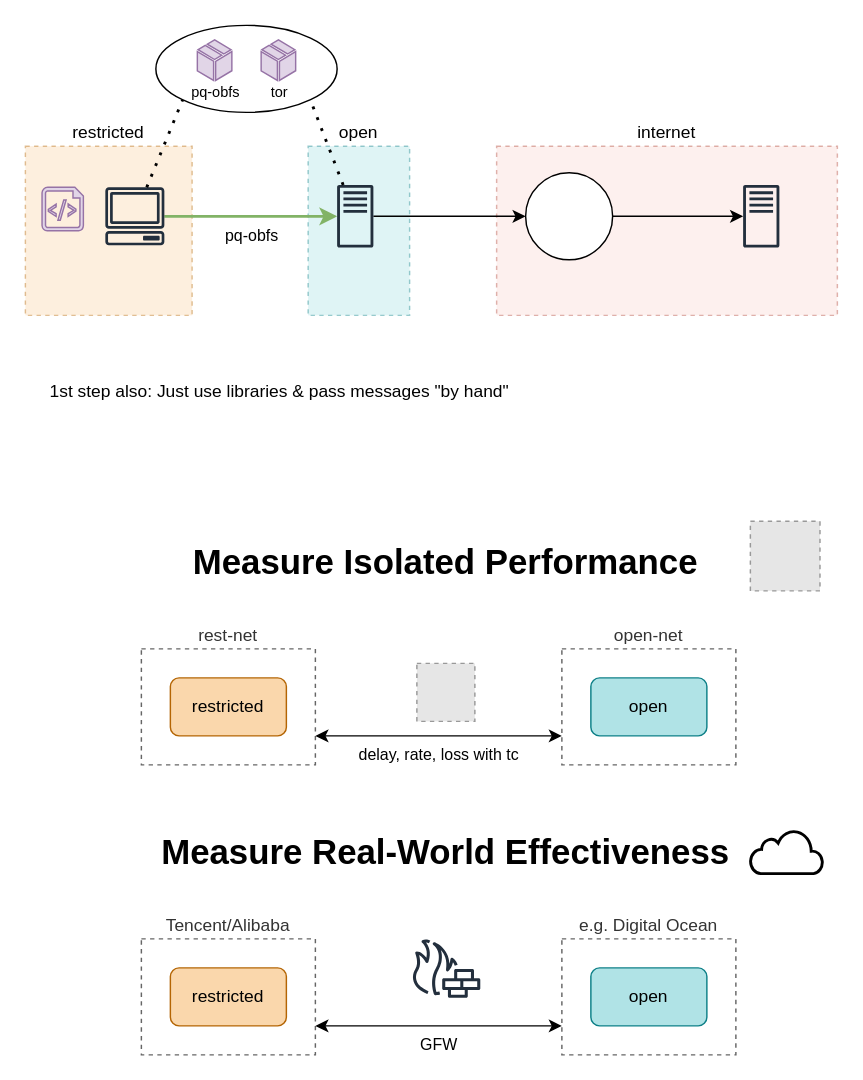
Some shapes in this 863 by 1080 pixel diagram are drawn without their labels. Grey dashed boxes stand in for pictures. Each missing label, with the centre of its shape:
Destination?: the point at 760,215
pq-obfs Tor Bridge: the point at 354,215
pq-obfs Tor Client: the point at 134,216
test.sh: the point at 62,208
Tor Network: the point at 568,215
